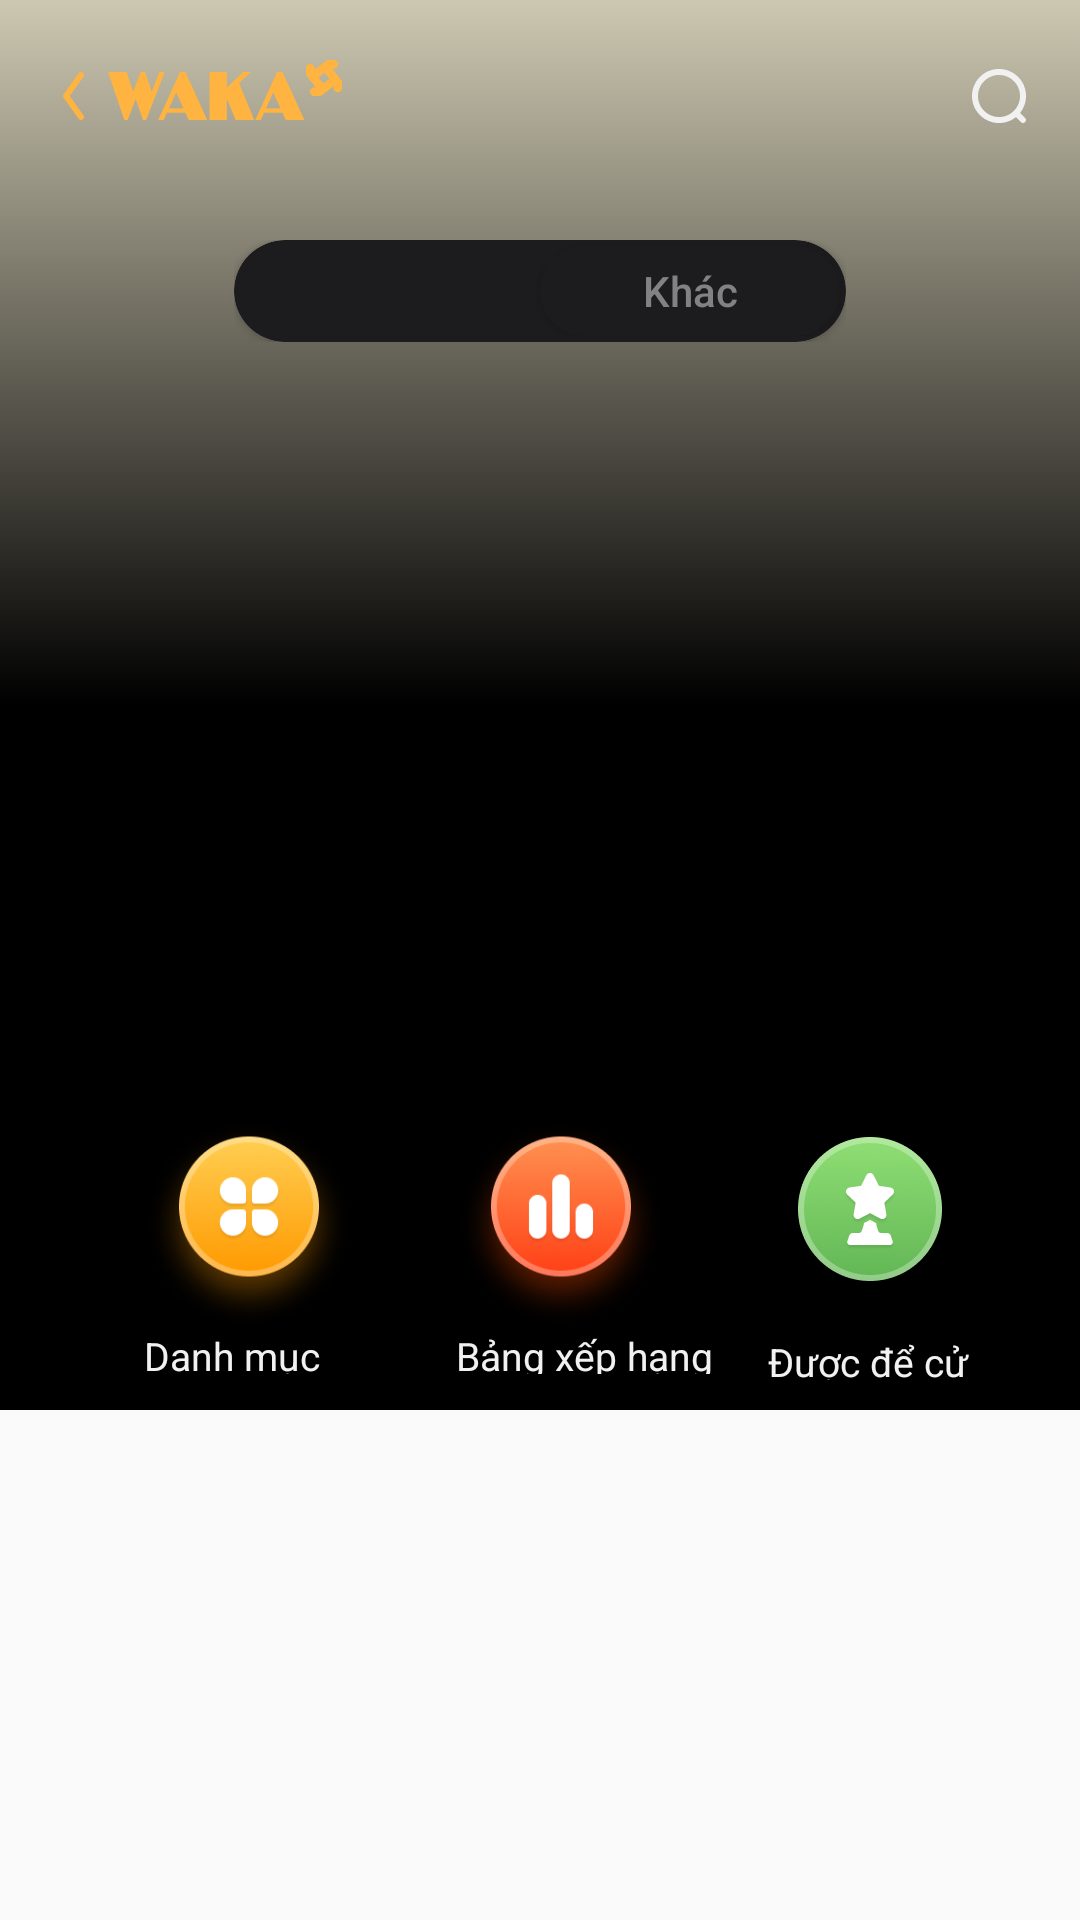

Screen size 1080px×1920px. Icon name, then its box in pixels as [x1=x1, y1=y1, x2=x2, y2=y2]:
back trang chu: [x1=36, y1=72, x2=108, y2=132]
duocdecu: [x1=798, y1=1137, x2=942, y2=1281]
son search: [x1=963, y1=69, x2=1035, y2=132]
